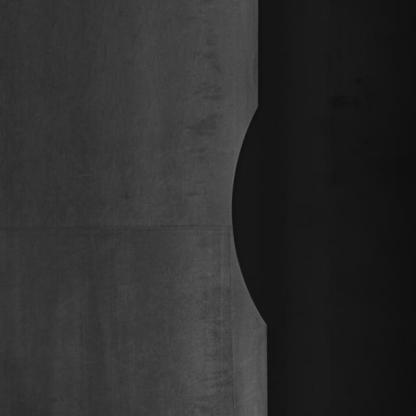crescent_gap: (222, 100, 284, 336)
welding_line: (0, 198, 239, 246)
